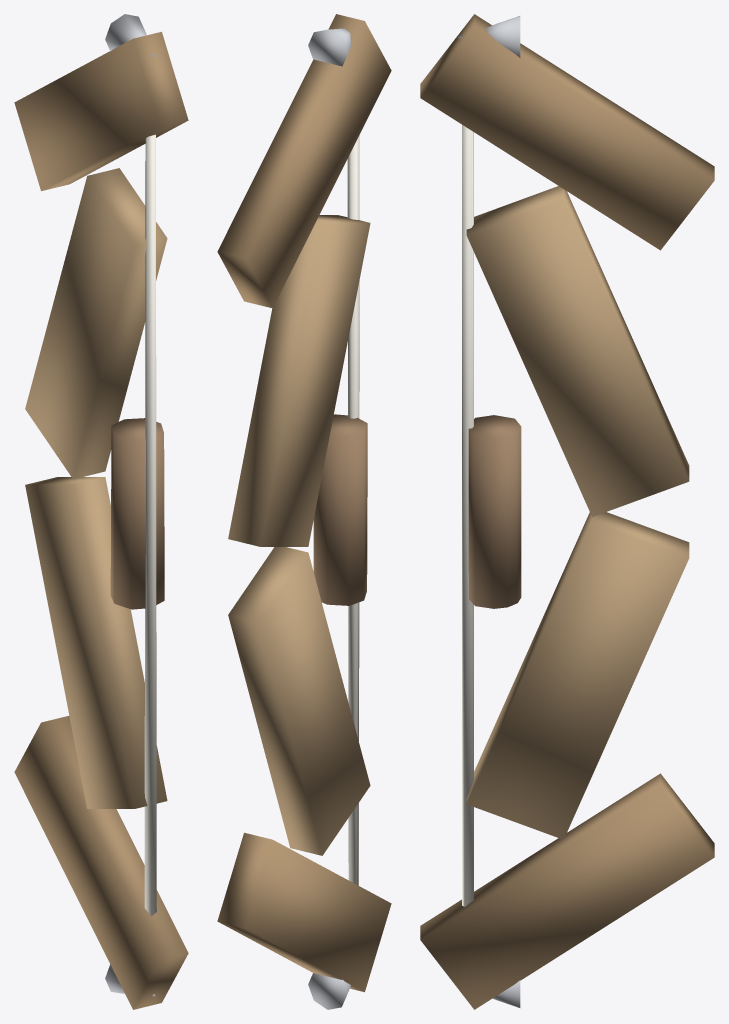
Rendered from item_bow.glb.
3 views of the same model, side by side, from view 1: azimuth 30°, elevation 25°; view 2: azimuth 150°, elevation 25°; view 3: azimuth 270°, elevation 25° (orthographic).
Visible parts, largest first — view 1: item_bow; view 2: item_bow; view 3: item_bow.
Part boxes in pixels (bbox=[...]): item_bow: bbox=[14, 14, 188, 1009]; item_bow: bbox=[217, 14, 391, 1009]; item_bow: bbox=[420, 14, 714, 1009].
Bounding box in the file's own units: 0.052 × 1.04 × 0.281.
